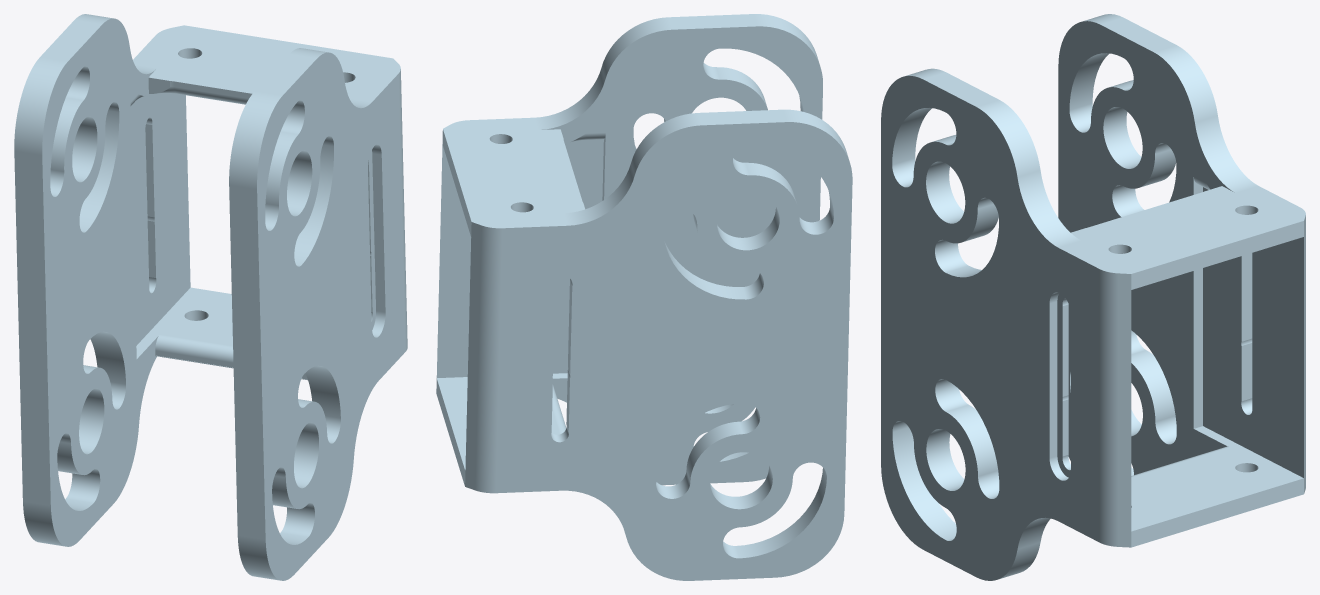
The model's file is Robot_Master Copy 1 - Part 1.gltf.
3 views of the same model, side by side, from view 1: azimuth 30°, elevation 25°; view 2: azimuth 150°, elevation 25°; view 3: azimuth 270°, elevation 25° (orthographic). The views are drawn at different scales.
Visible parts, largest first — view 1: Part 1; view 2: Part 1; view 3: Part 1.
Boxes of the visible parts, x1,y1,x2,y2 form: Part 1: (14, 14, 407, 580); Part 1: (436, 14, 852, 580); Part 1: (881, 14, 1305, 580).
Size of the model in its own units: 0.0787 by 0.089 by 0.0729.
